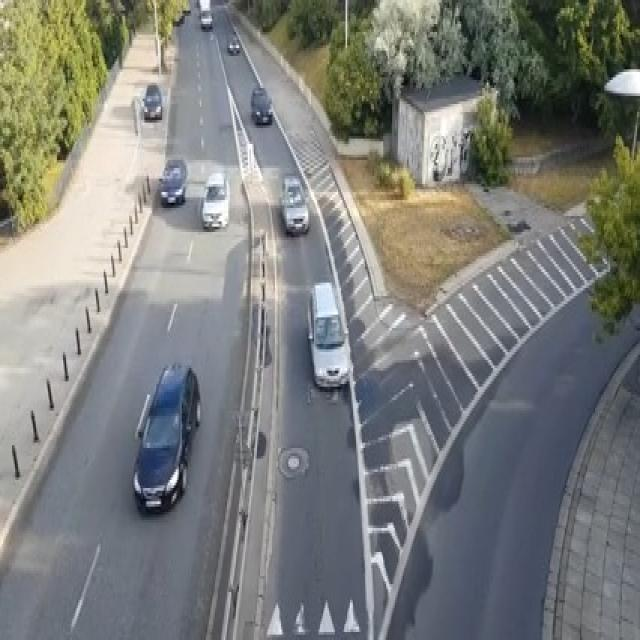car: (132, 360, 200, 515), (307, 280, 350, 389), (280, 173, 310, 235), (200, 171, 230, 229), (158, 157, 186, 205), (251, 82, 273, 122), (141, 83, 162, 120), (200, 8, 212, 29), (227, 35, 239, 53), (173, 11, 185, 24), (182, 0, 191, 13)
